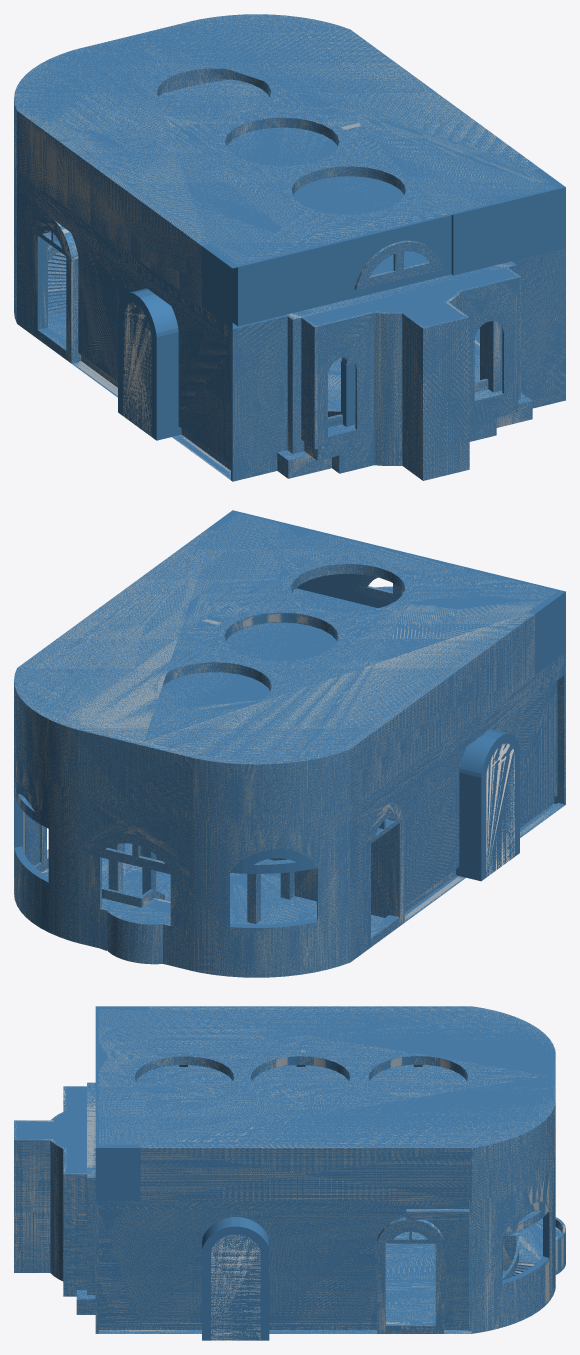
The model's file is Main Stairs.fbx.
The picture shows the model from 3 angles, top to bottom: view 1: azimuth 30°, elevation 25°; view 2: azimuth 150°, elevation 25°; view 3: azimuth 270°, elevation 25°; orthographic projection. The views are drawn at different scales.
Visible parts, largest first — view 1: Model; view 2: Model; view 3: Model.
Boxes of the visible parts, x1=… form: Model: x1=14, y1=14, x2=565, y2=481; Model: x1=14, y1=510, x2=565, y2=977; Model: x1=14, y1=1006, x2=565, y2=1340.
Size of the model in its own units: 1502 by 844 by 2261.
